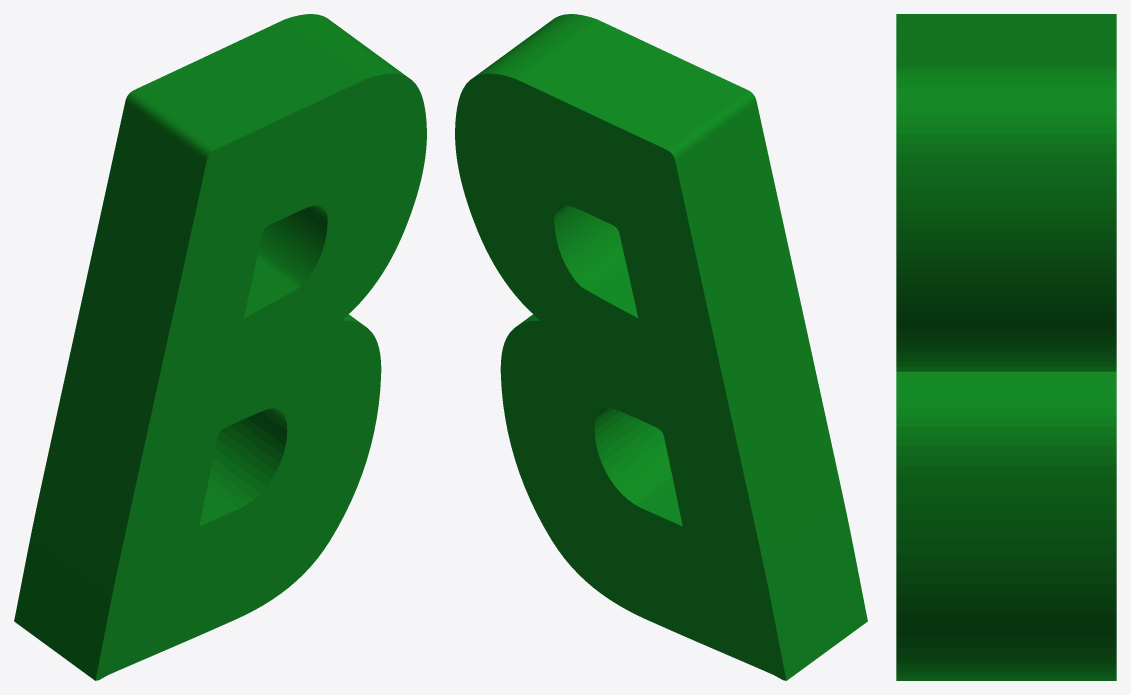
File: LETTERBB.gltf
The picture shows the model from 3 angles, left to right: view 1: azimuth 30°, elevation 25°; view 2: azimuth 150°, elevation 25°; view 3: azimuth 270°, elevation 25°; orthographic projection. The views are drawn at different scales.
Visible parts, largest first — view 1: Curve.012; view 2: Curve.012; view 3: Curve.012.
Boxes of the visible parts, left/top/right/bottom form: Curve.012: left=14, top=14, right=426, bottom=680; Curve.012: left=455, top=14, right=867, bottom=680; Curve.012: left=896, top=14, right=1116, bottom=680.
Bounding box in the file's own units: 0.0751 × 0.1162 × 0.032.
